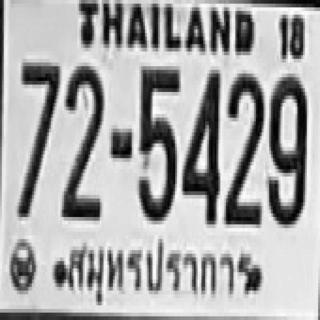N02: (60, 61, 102, 219), (224, 72, 262, 223)
N04: (181, 66, 218, 221)
N05: (137, 64, 179, 219)
N07: (17, 59, 58, 213)
N09: (267, 74, 305, 224)
P57: (67, 236, 256, 304)
